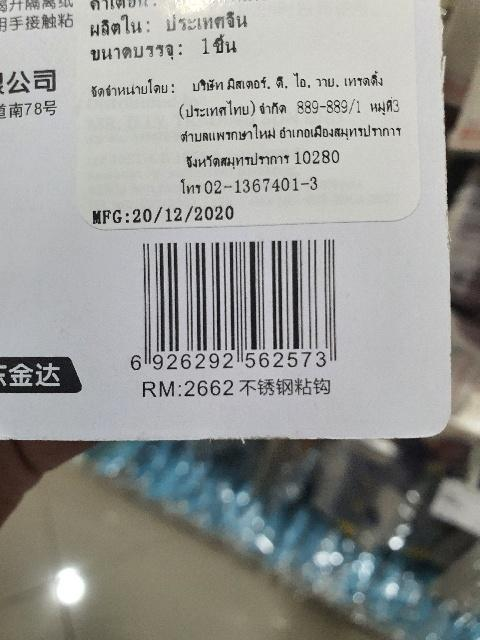Barcode: (117, 233, 353, 377)
